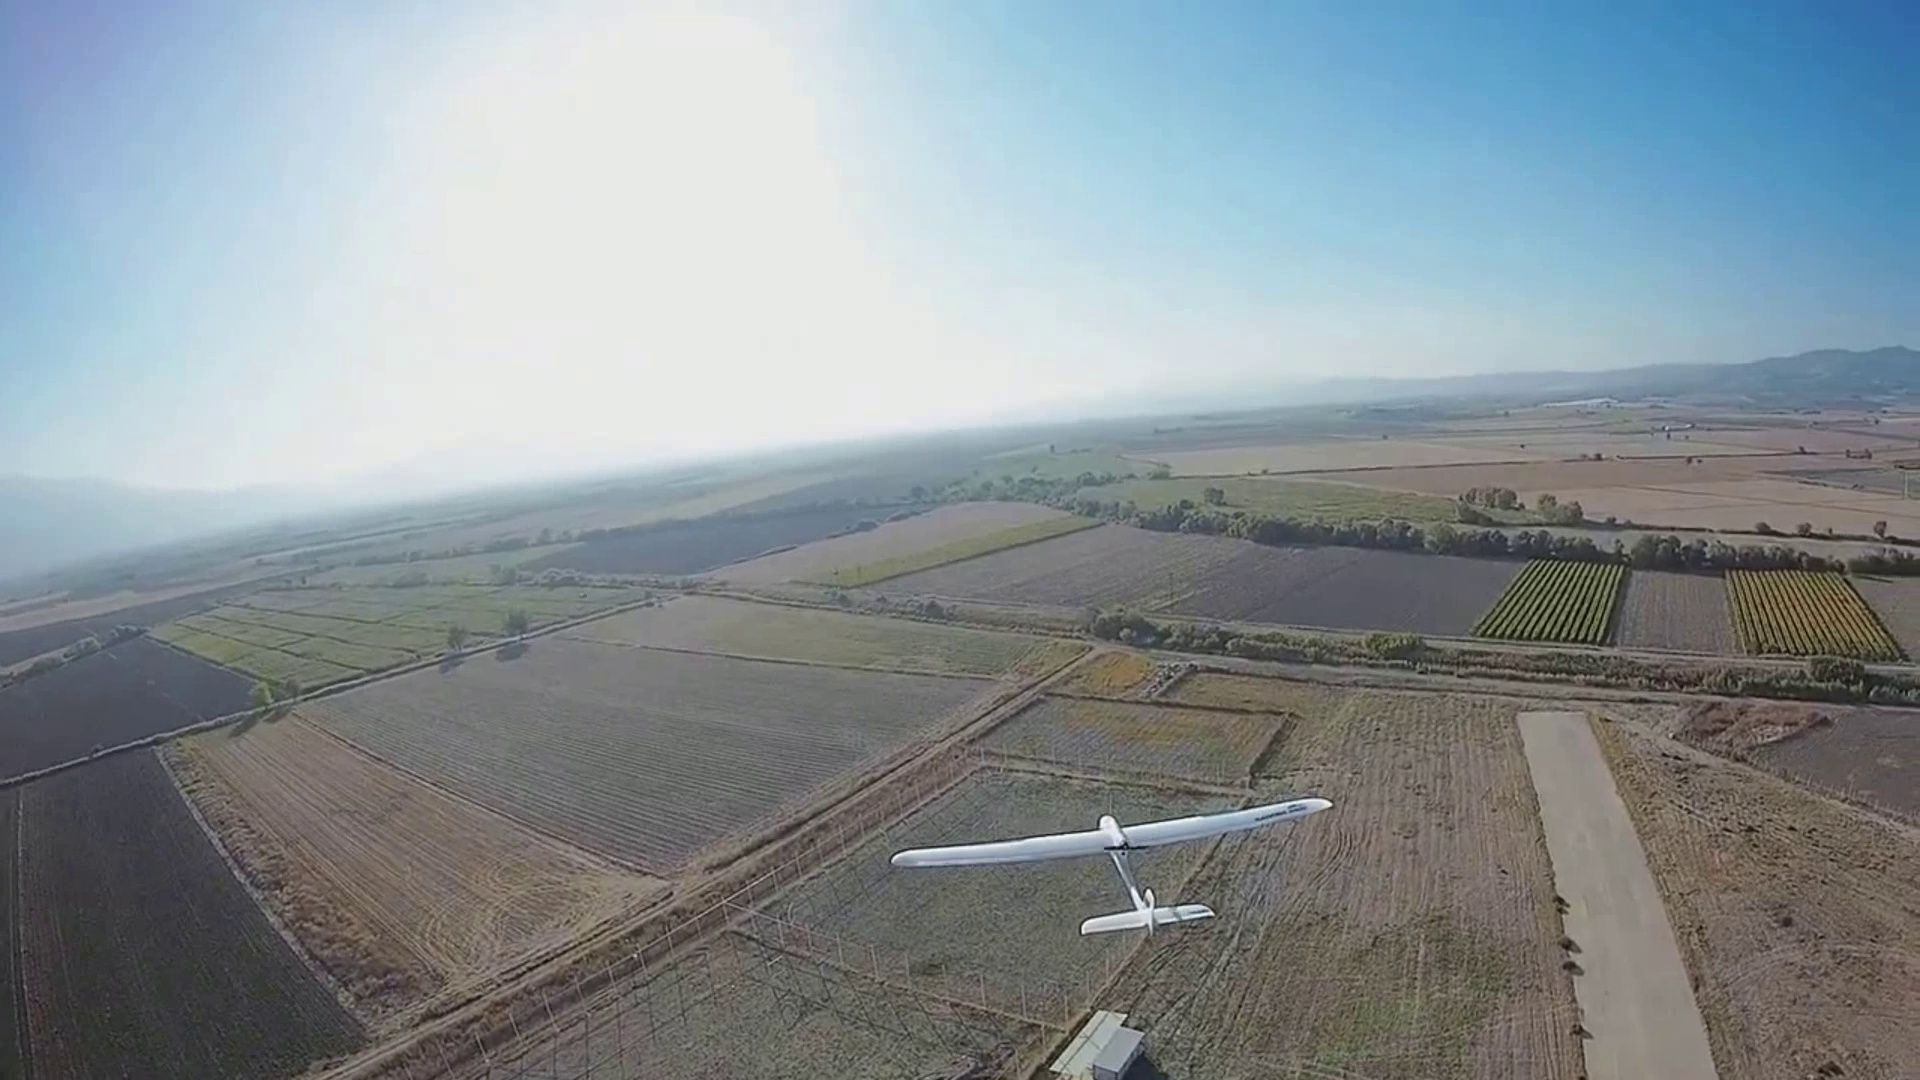airplane: (887, 793, 1336, 938)
